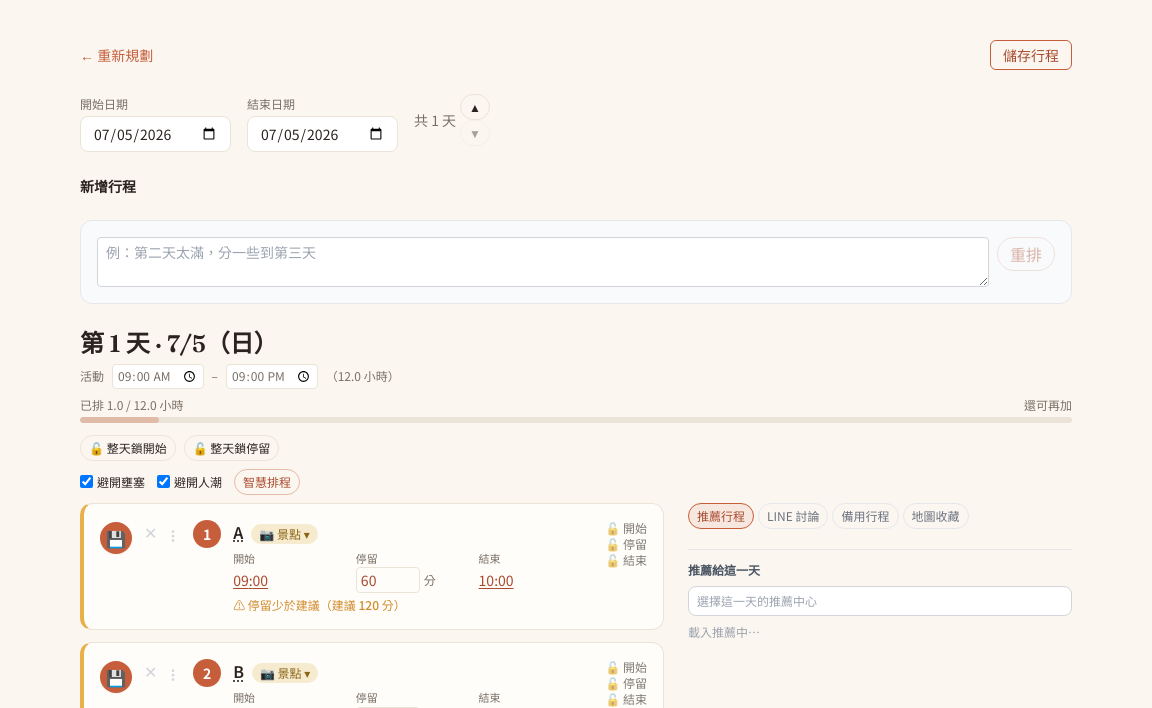
Test: clicking 結束 on a card locks its end (🔒 結束)
Click the button with aria-label "鎖定結束時間". click: point(626, 560)
box: [605,554,647,566]
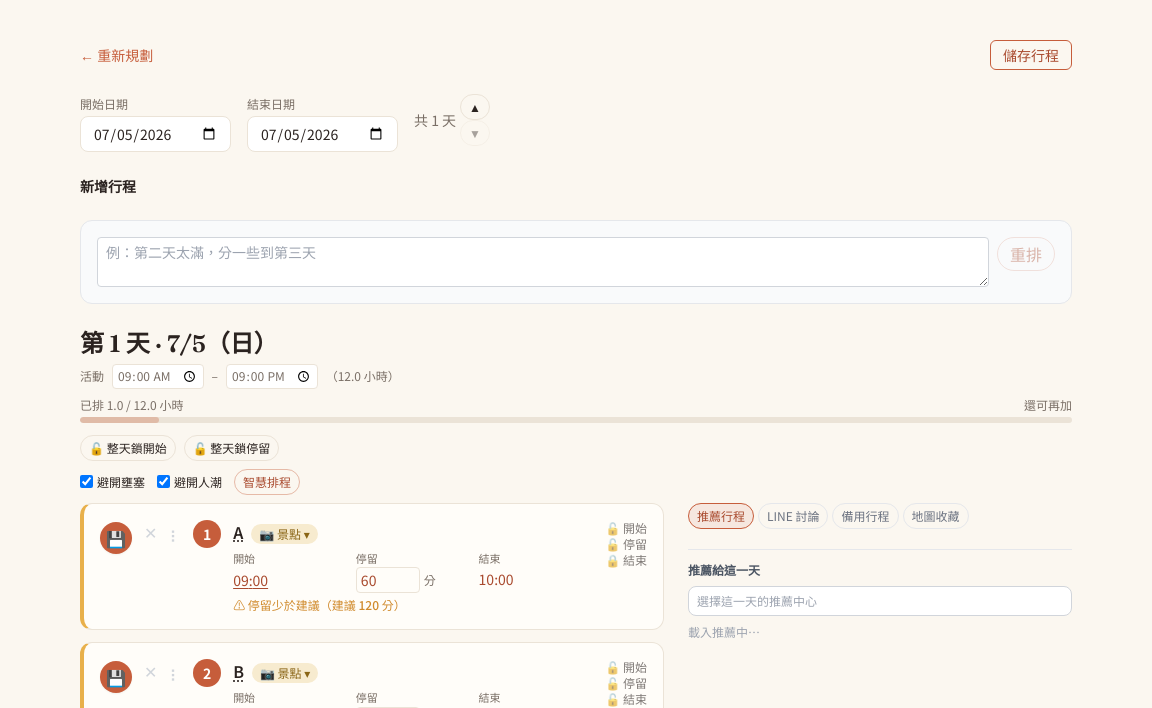
Now the button with aria-label "解鎖結束時間" is shown, box [605,554,647,566]
